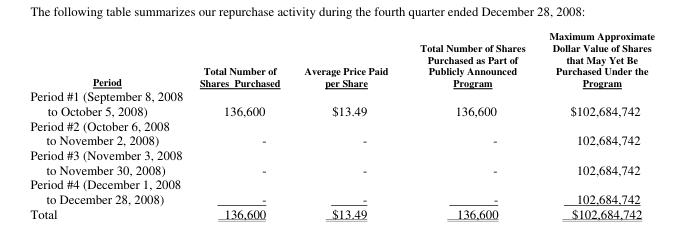table: (29, 28, 654, 221)
table column: (29, 28, 190, 221), (403, 28, 536, 221), (536, 28, 654, 221), (291, 28, 403, 221), (190, 28, 291, 221)
table column header: (29, 28, 654, 88)
table row: (29, 28, 654, 88), (29, 175, 654, 205), (29, 88, 654, 117), (29, 117, 654, 146), (29, 146, 654, 175), (29, 205, 654, 221)
